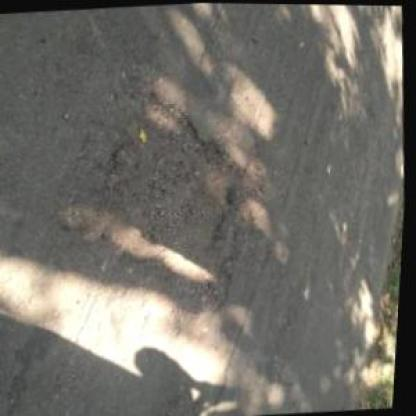pothole: (80, 82, 261, 323)
